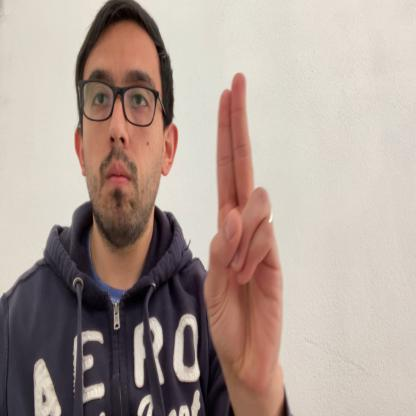U: (204, 71, 283, 392)
